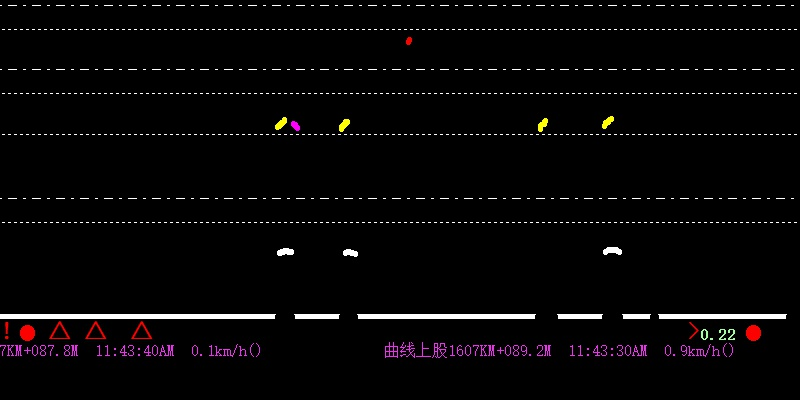circle: (17, 322, 37, 344), (745, 321, 761, 341)
face_down: (404, 24, 412, 47)
